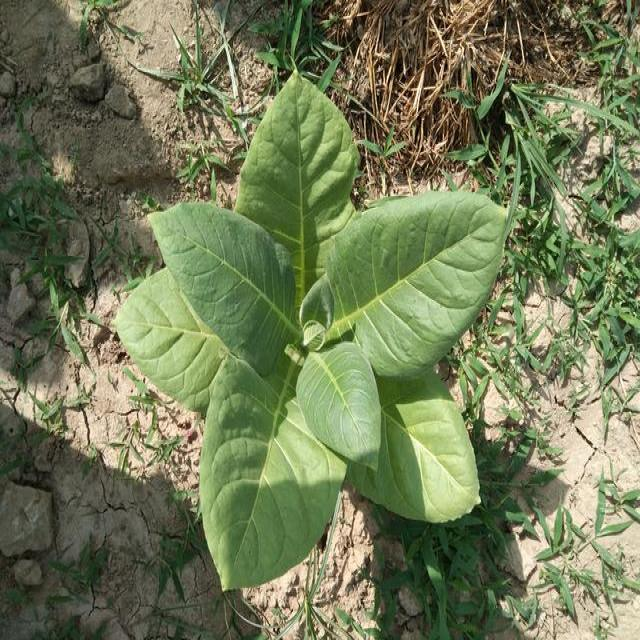crop: (108, 74, 510, 602)
